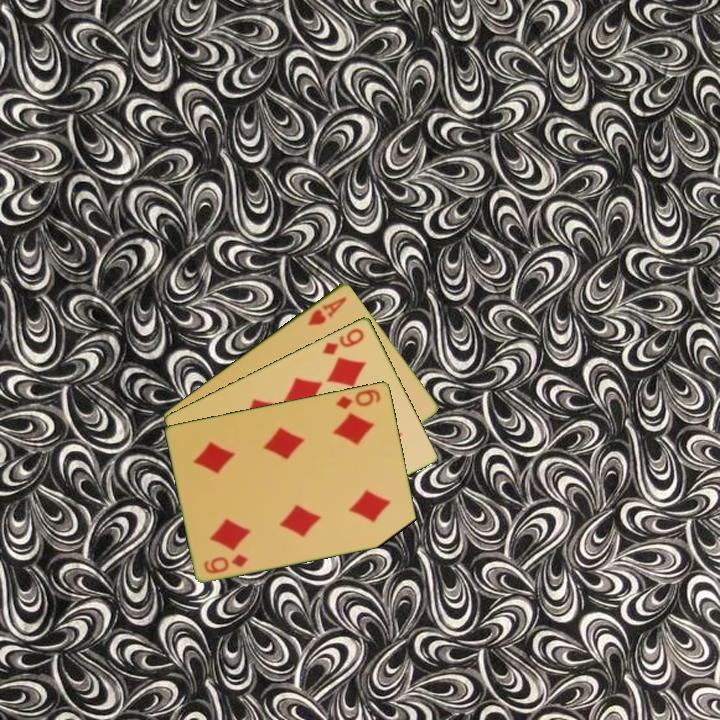6d: (333, 385, 384, 412), (201, 550, 251, 576)
9d: (319, 324, 367, 358)
Ah: (304, 292, 350, 328)
